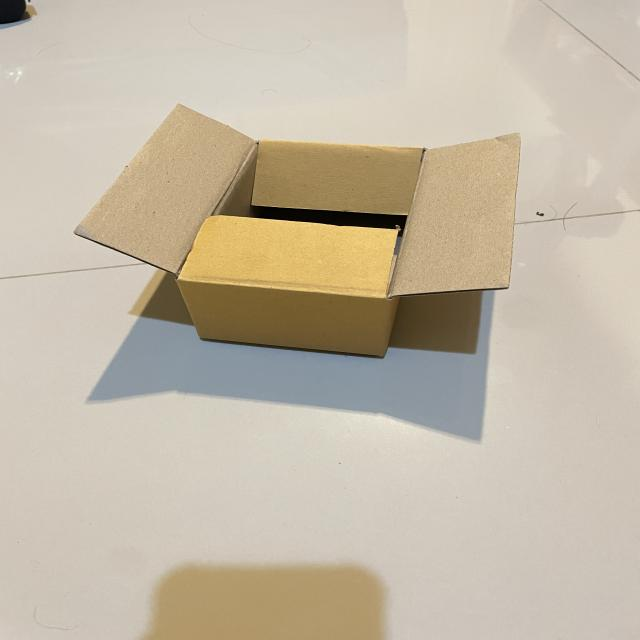box: (73, 103, 523, 361)
opened: (75, 104, 524, 300)
